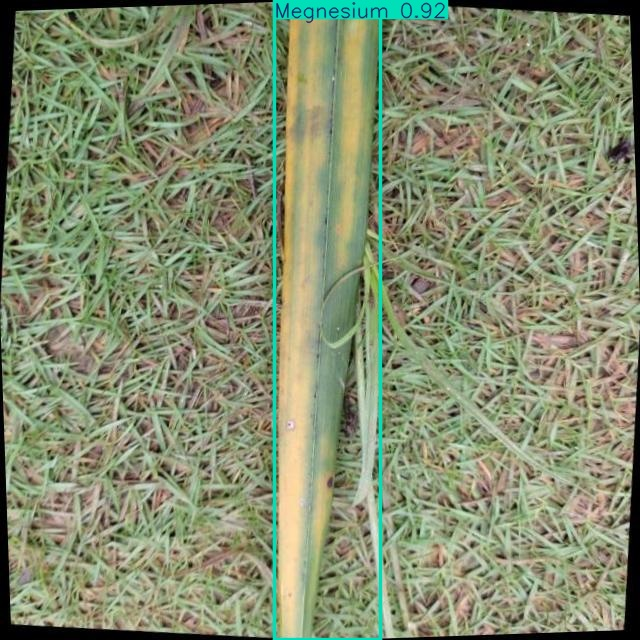Megnesium: (274, 0, 380, 639)
